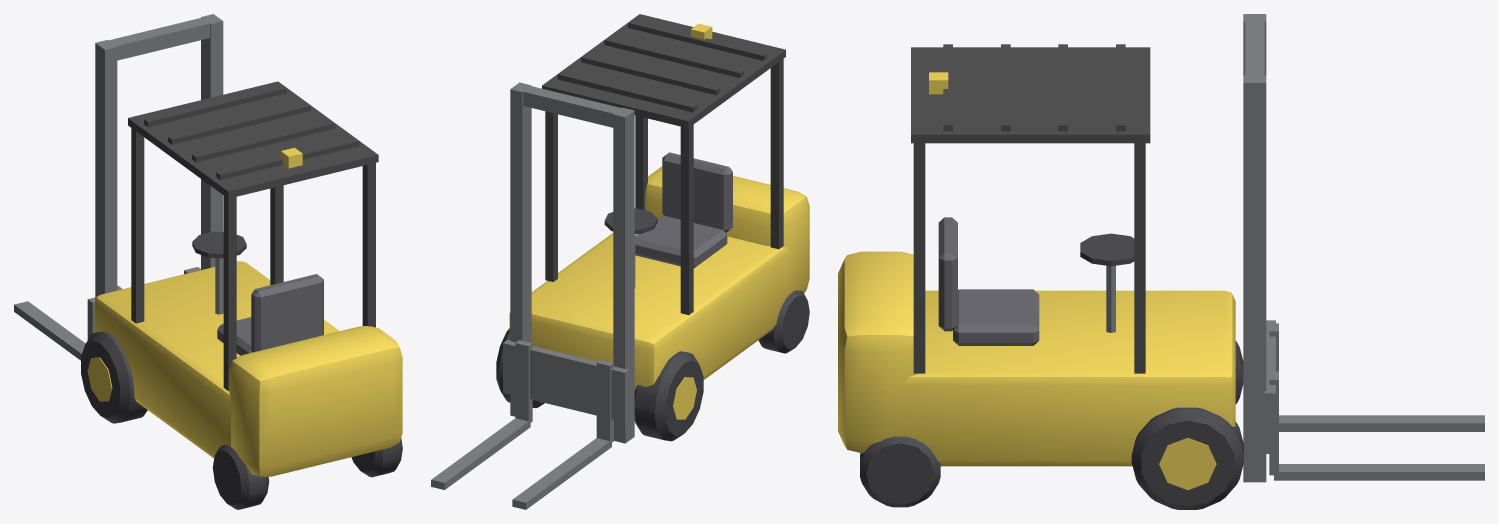
Rendered from forklift.glb.
3 renders of one model, left to right at view 1: azimuth 30°, elevation 25°; view 2: azimuth 150°, elevation 25°; view 3: azimuth 270°, elevation 25°, orthographic. The views are drawn at different scales.
Parts seen in each view (by area): view 1: body; view 2: body; view 3: body.
Part boxes in pixels (box(x1,y1,x2,y2)): body: box(14, 14, 402, 509); body: box(431, 14, 809, 509); body: box(838, 14, 1484, 509).
Bounding box in the file's own units: 1.26 × 2.39 × 3.37.
